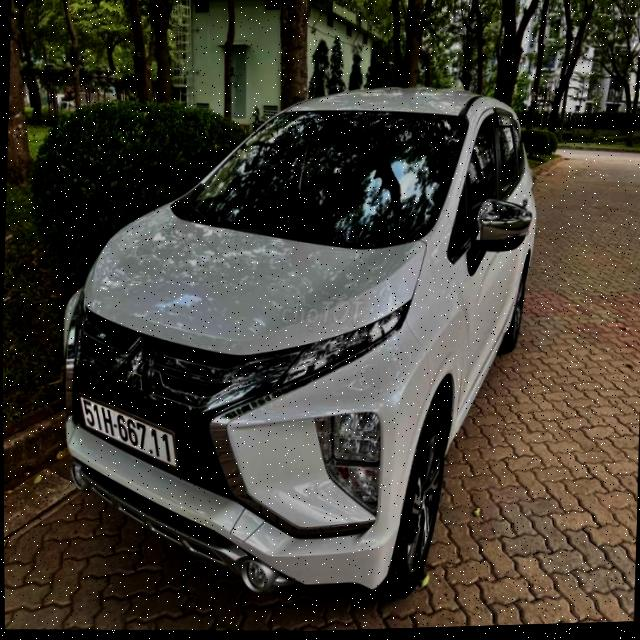car: (39, 76, 555, 624)
plate: (72, 387, 183, 475)
